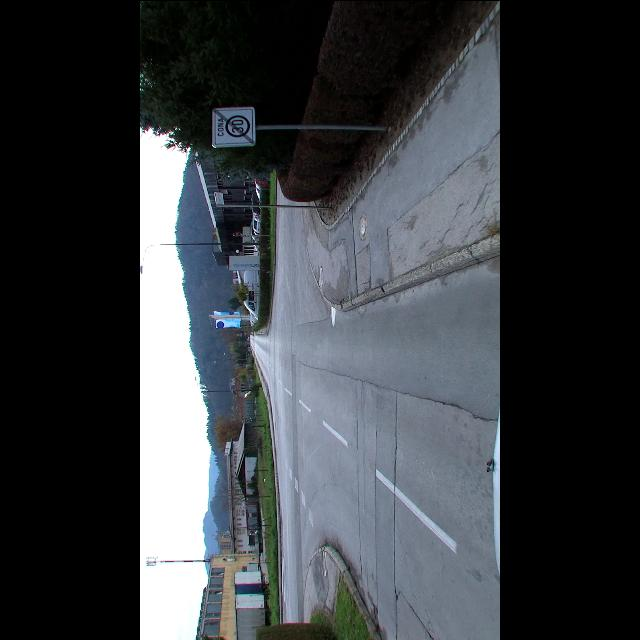Rectangle: (211, 106, 255, 146)
